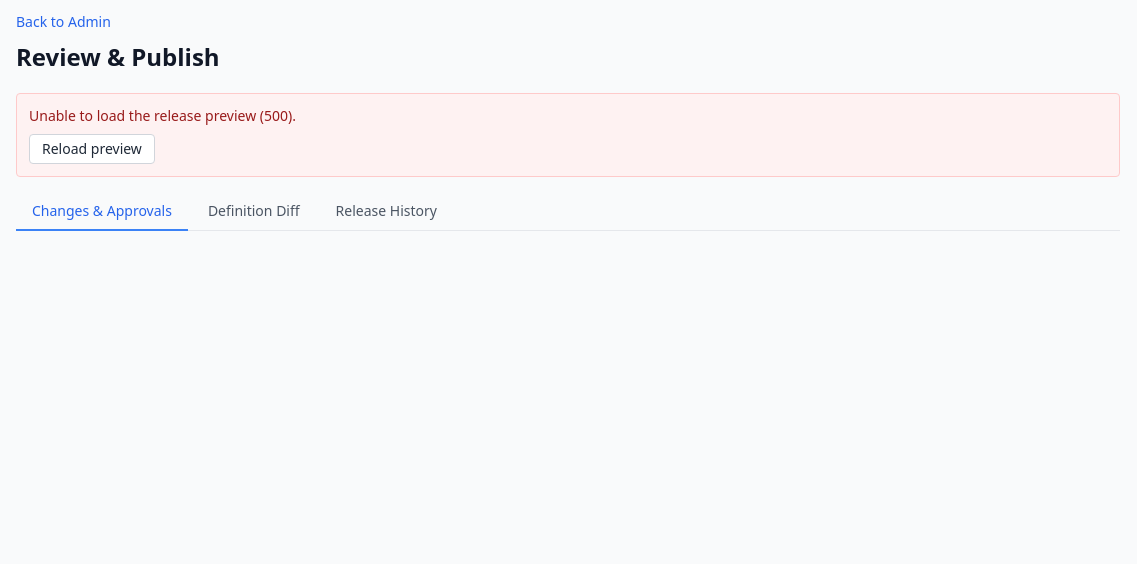
Test: ReviewAndPublishPage: the preview › shows a failed preview read as an alert with Reload preview
Expected: the message shows "Unable to load the release preview (500).", [29,106,296,125]
What coordinates should you click on to do the following:
click the button "Reload preview"
I would click on:
 (92, 149)
Its box is [29,134,155,164].
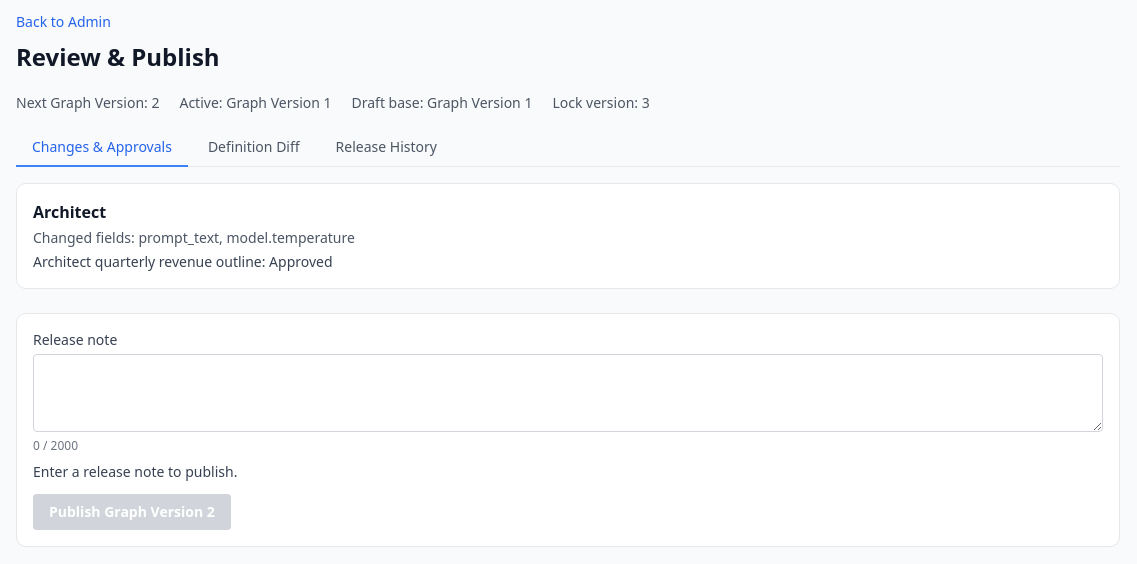
Result: the text "Next Graph Version: 2" is shown at [16,93,160,113]
